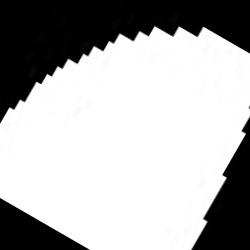spot: (2, 27, 248, 248)
